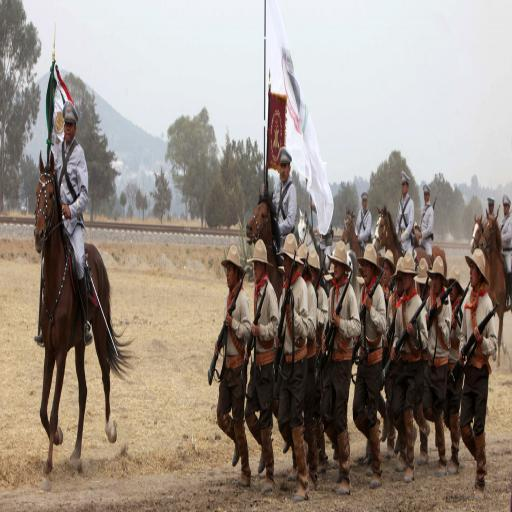horse: (33, 150, 135, 478), (296, 205, 362, 306), (477, 206, 512, 370), (372, 204, 446, 278), (246, 188, 283, 308), (340, 200, 364, 278), (470, 212, 486, 256)
